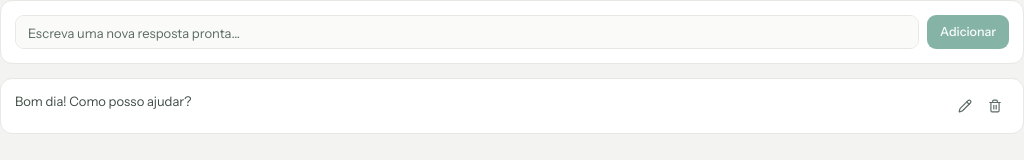
QuickRepliesPanel (Fase 1, Bloco F1.9) › remove uma resposta ao clicar em Excluir
Expected: the text "Bom dia! Como posso ajudar?" is shown, [15,93,191,109]
Click the button named "Excluir". click: click(995, 106)
box: [981,92,1009,120]
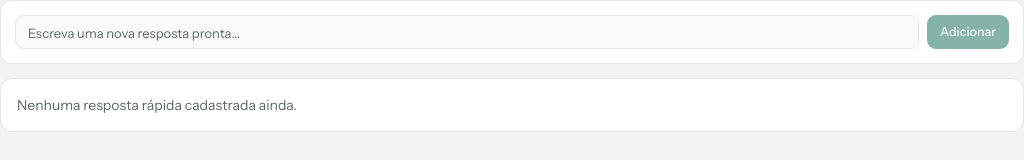
Expected: the text "Bom dia! Como posso ajudar?" is gone
